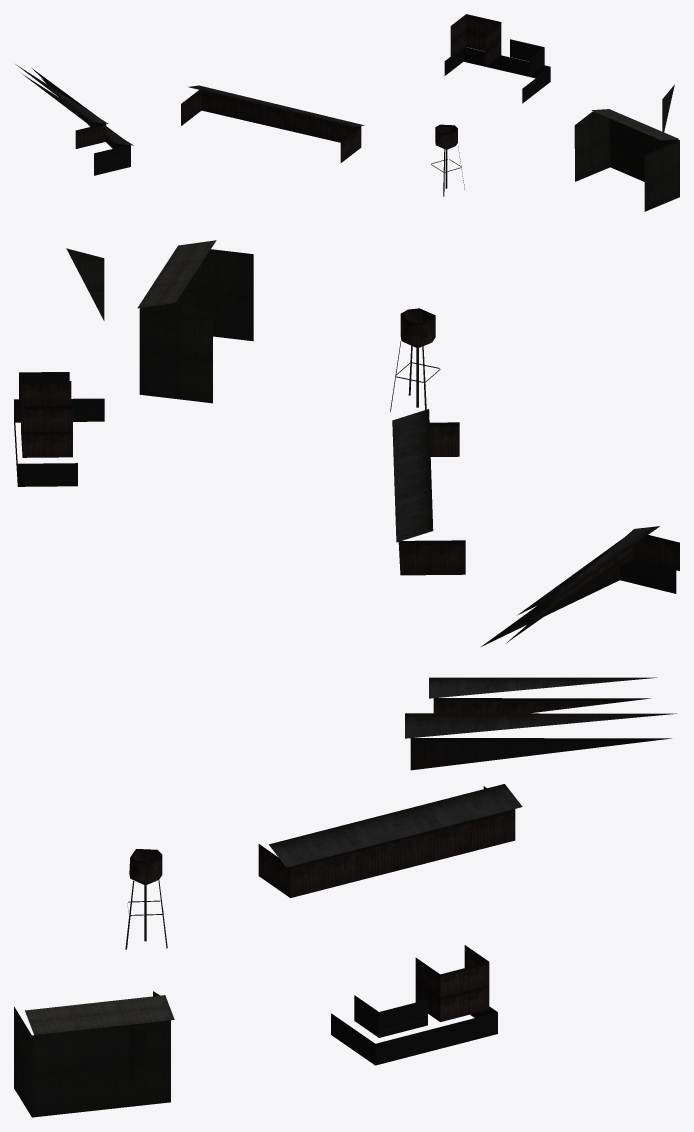
The model's file is cell_13_-12.gltf.
The picture shows the model from 3 angles, top to bottom: view 1: azimuth 30°, elevation 25°; view 2: azimuth 150°, elevation 25°; view 3: azimuth 270°, elevation 25°; orthographic projection. The views are drawn at different scales.
Visible parts, largest first — view 1: cell_13_-12; view 2: cell_13_-12; view 3: cell_13_-12.
Boxes of the visible parts, box(x1,y1,x2,y2) form: cell_13_-12: box(15, 14, 679, 211); cell_13_-12: box(14, 240, 679, 646); cell_13_-12: box(14, 677, 676, 1117).
Bounding box in the file's own units: 232 × 38.76 × 186.
Materials: 4 (4 with a texture image).
